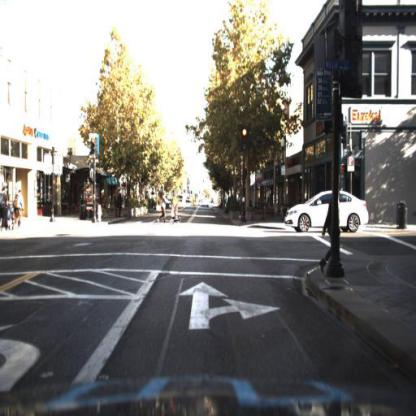car: (284, 189, 374, 232)
pedestrian: (315, 190, 345, 265), (158, 182, 181, 225), (13, 192, 25, 234)
trafficLight-Red: (87, 131, 101, 163), (242, 126, 252, 153), (89, 134, 98, 157)
